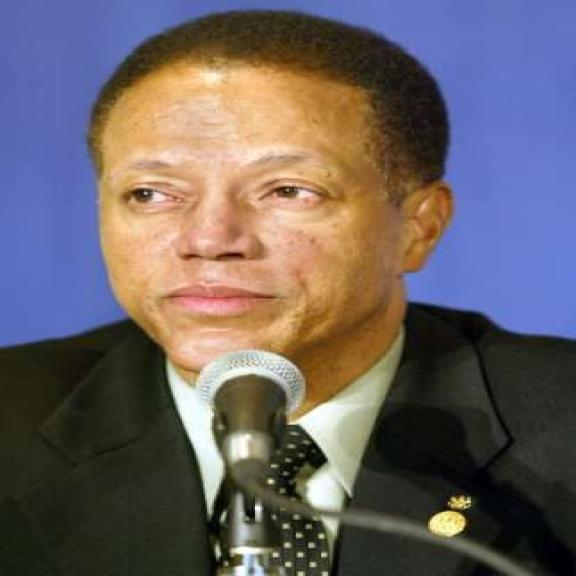face: (93, 72, 467, 380)
